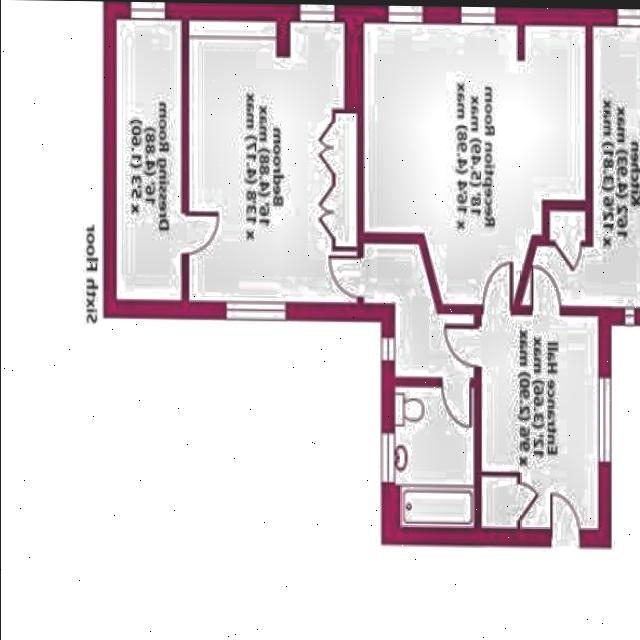room: (362, 23, 586, 305), (186, 19, 358, 301), (519, 28, 640, 307), (481, 314, 597, 530), (116, 23, 180, 301), (363, 244, 473, 378), (392, 386, 474, 528), (548, 211, 584, 241)
